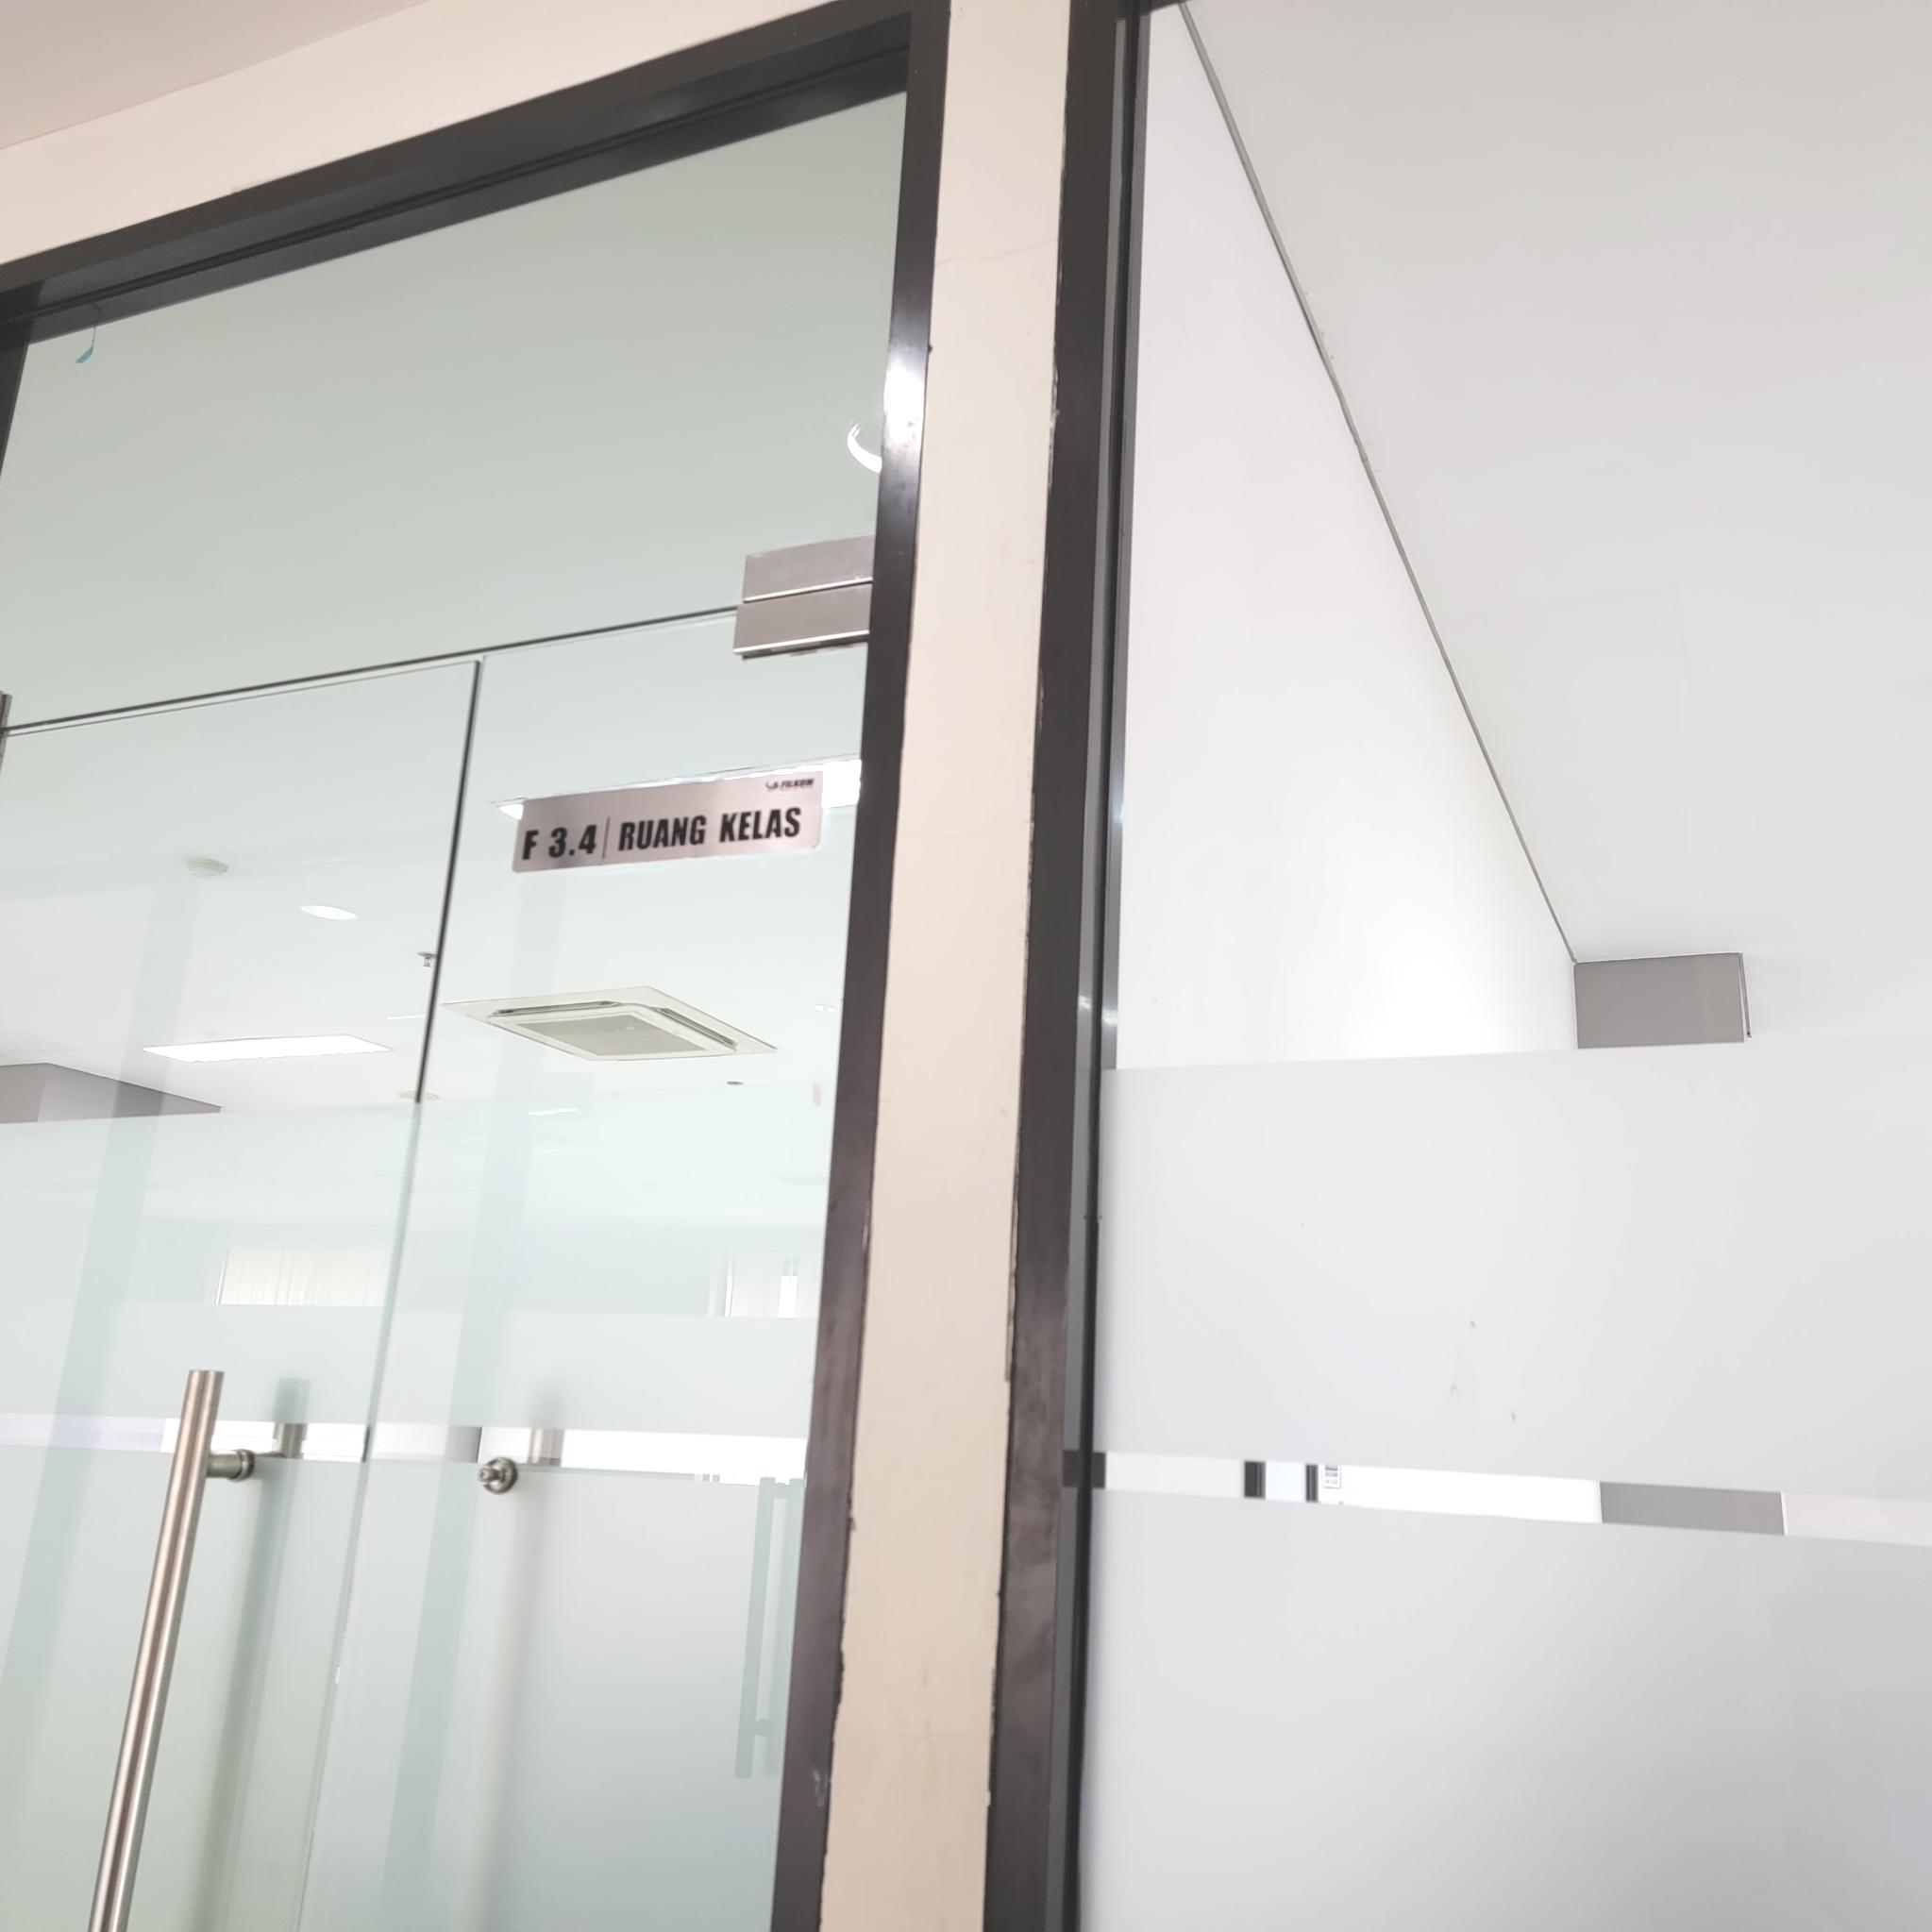plate: (513, 768, 824, 872)
